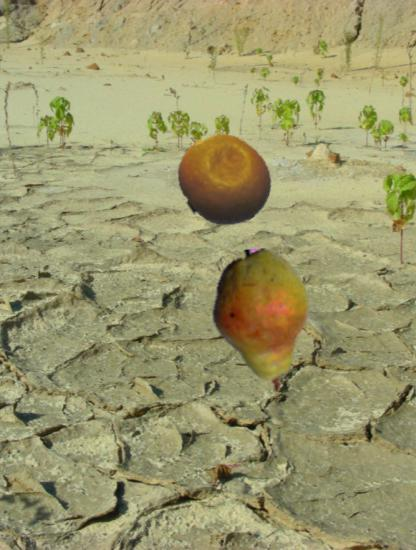Kumquats: (177, 132, 273, 228)
Pear: (190, 249, 334, 393)
